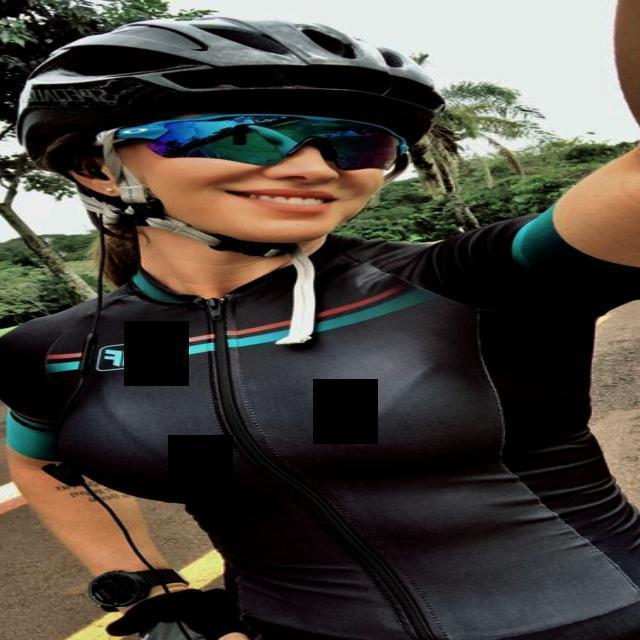helmet: (22, 10, 448, 266)
